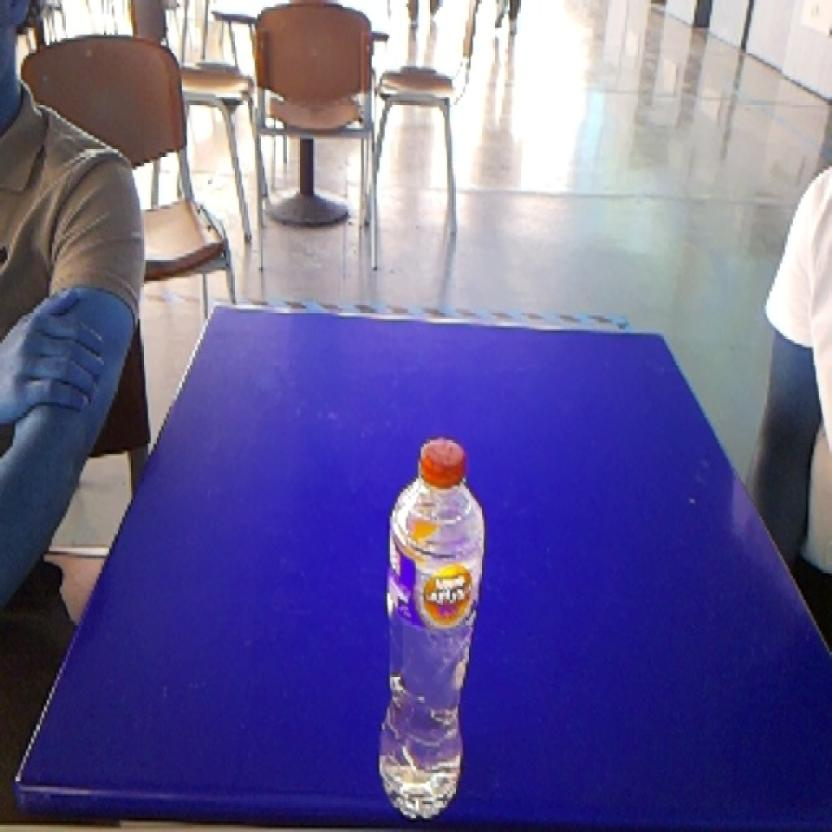good: (367, 417, 491, 829)
